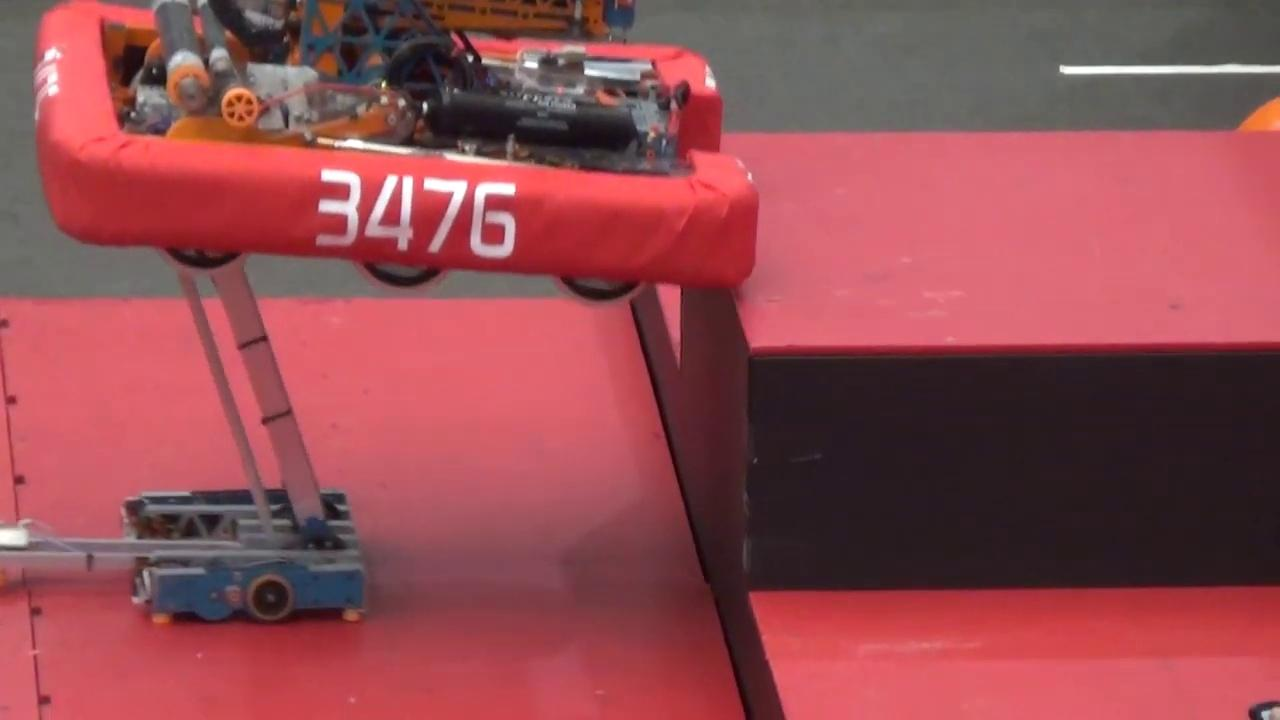robot: (0, 0, 751, 313)
